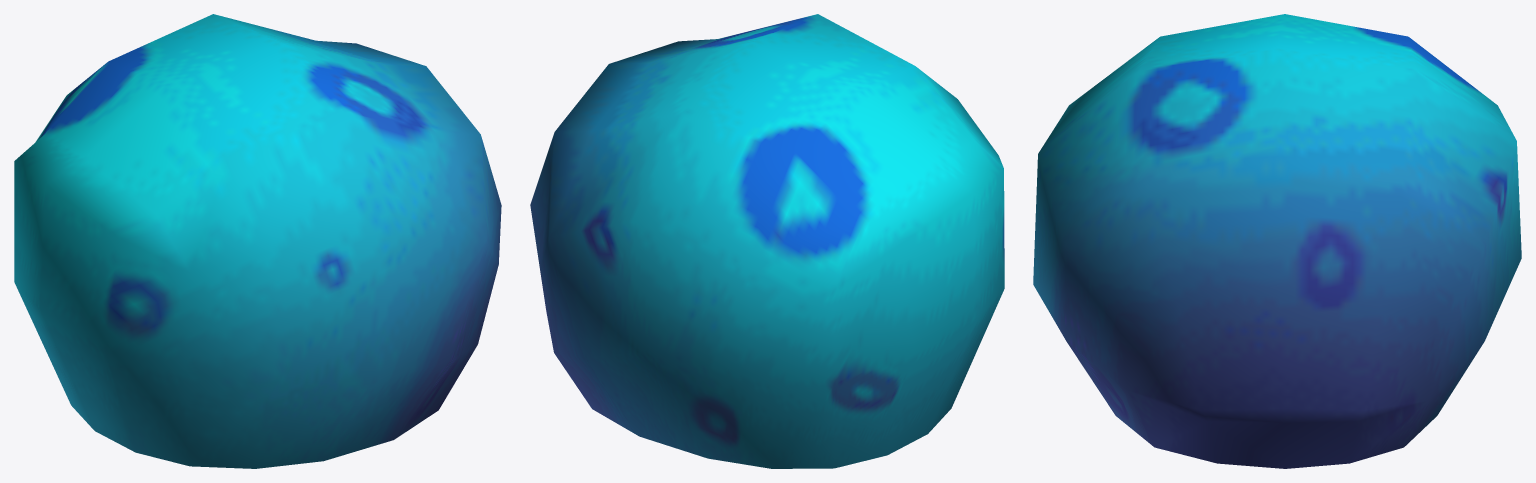
The model's file is cj_baozi1.fbx.
3 views of the same model, side by side, from view 1: azimuth 30°, elevation 25°; view 2: azimuth 150°, elevation 25°; view 3: azimuth 270°, elevation 25° (orthographic).
Visible parts, largest first — view 1: cj_baozi1; view 2: cj_baozi1; view 3: cj_baozi1.
Boxes of the visible parts, box(x1,y1,x2,y2) form: cj_baozi1: box(14, 14, 501, 468); cj_baozi1: box(530, 14, 1004, 468); cj_baozi1: box(1033, 14, 1521, 468).
Bounding box in the file's own units: 1401 × 1092 × 1385.
